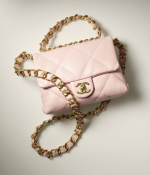channel: (20, 27, 141, 119), (48, 69, 66, 100), (15, 50, 32, 78), (72, 78, 91, 96)
